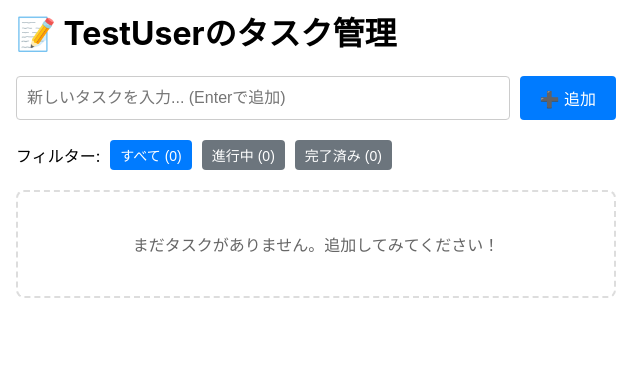
Scenario: Task Filtering Integration Tests (US2) › フィルター切り替えの受入シナリオ › AS-003: フィルター切り替え後にタスク追加すると、適切なフィルターで表示される
「進行中」フィルターに切り替え
Click the button "進行中 (0)": (243, 155) left=202, top=140, right=285, bottom=170
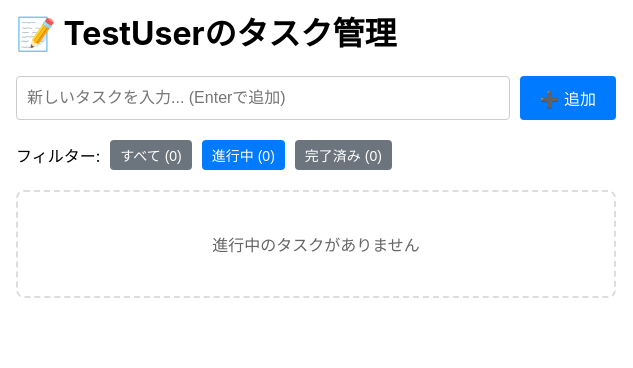
タスクを追加（新しいタスクは未完了）
In the field with placeholder "新しいタスクを入力... (Enterで追加)": (263, 98) left=16, top=76, right=510, bottom=120, type "新しい未完了タスク"
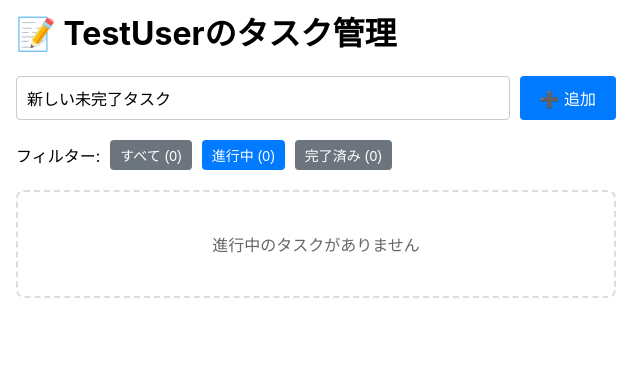
Click the button "➕ 追加": (568, 98) left=520, top=76, right=616, bottom=120
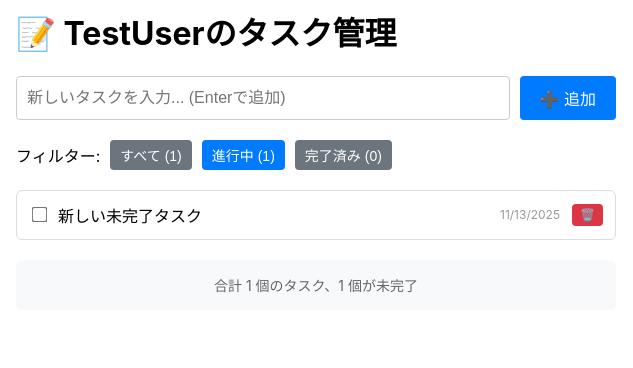
Now the text "新しい未完了タスク" is shown, box left=58, top=206, right=202, bottom=226
「完了済み」フィルターに切り替え
Click the button "完了済み (0)": (343, 155) left=295, top=140, right=392, bottom=170
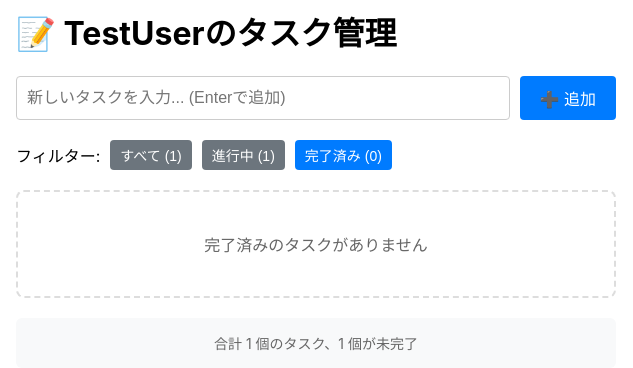
Now the text "新しい未完了タスク" is gone
